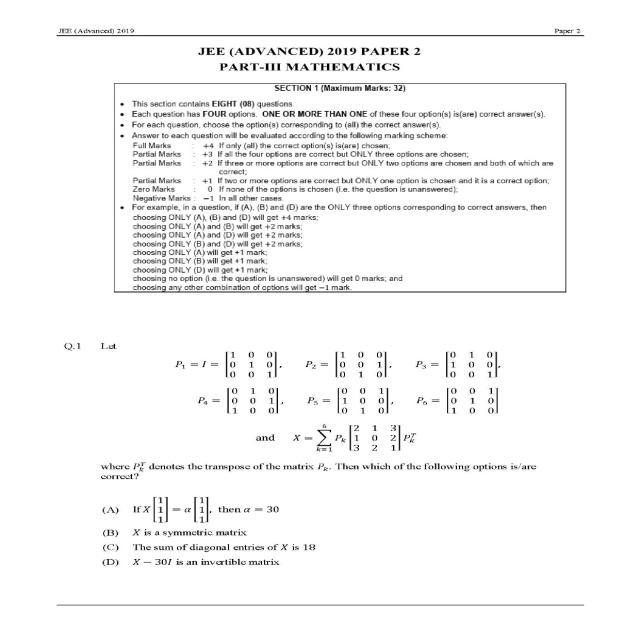Answer_Block: (58, 488, 629, 586)
Instruction: (58, 80, 629, 308)
Question_Answer_Block: (58, 331, 629, 583)
Question_Block: (58, 330, 629, 492)
Question_Paper_Area: (58, 80, 629, 583)
